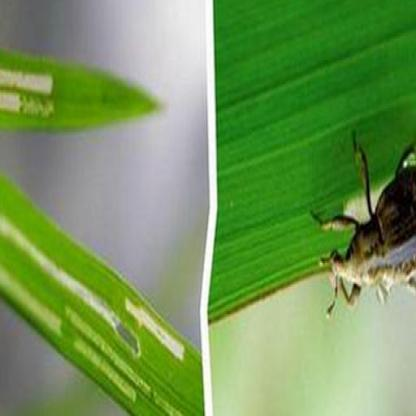rice-bug: (327, 130, 416, 305)
